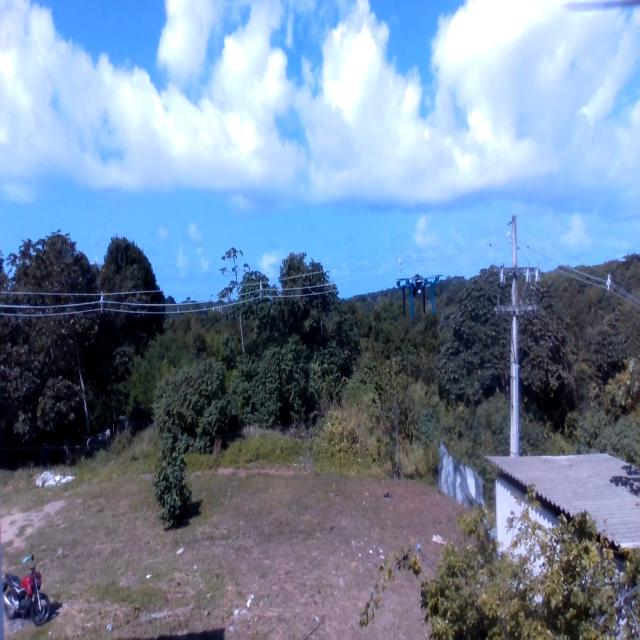-uav-: (391, 258, 451, 332)
